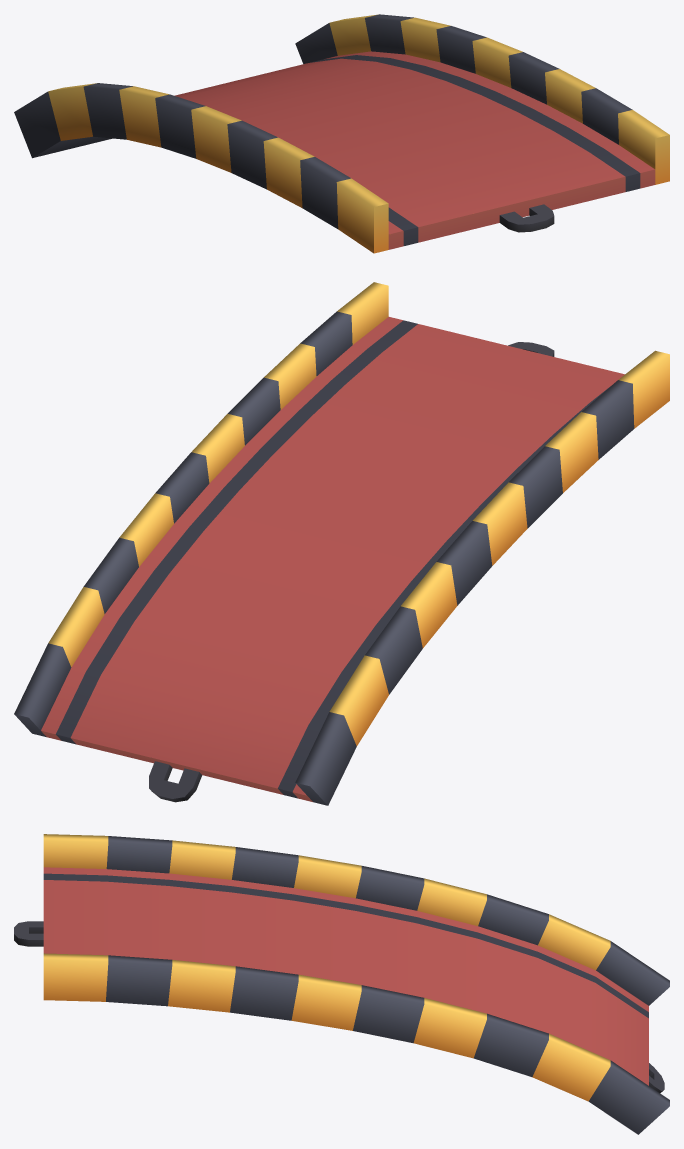
File: track-road-wide-straight-hill-end.fbx
3 renders of one model, top to bottom at view 1: azimuth 30°, elevation 25°; view 2: azimuth 150°, elevation 25°; view 3: azimuth 270°, elevation 25°, orthographic. The views are drawn at different scales.
Visible parts, largest first — view 1: track-road-wide-straight-hill-end; view 2: track-road-wide-straight-hill-end; view 3: track-road-wide-straight-hill-end.
Boxes of the visible parts, box(x1,y1,x2,y2) form: track-road-wide-straight-hill-end: box(14, 14, 669, 253); track-road-wide-straight-hill-end: box(14, 282, 669, 805); track-road-wide-straight-hill-end: box(14, 834, 669, 1134).
Bounding box in the file's own units: 200 × 144 × 441.
